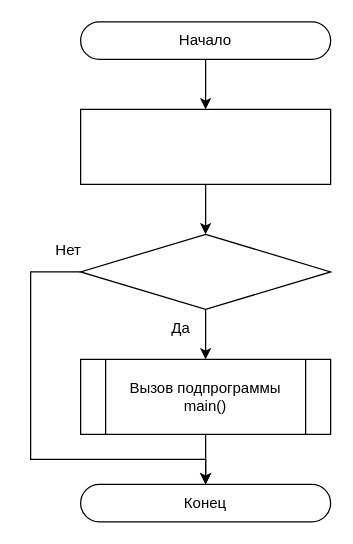
The diagram is 353 pixels wide and 544 high, and some of its shapes have lost their labels. Each missing label, with the centre of its shape:
__name__ == __main__: pixel 205 271
Объявление словаря team с предварительно записанными данными: pixel 205 146
